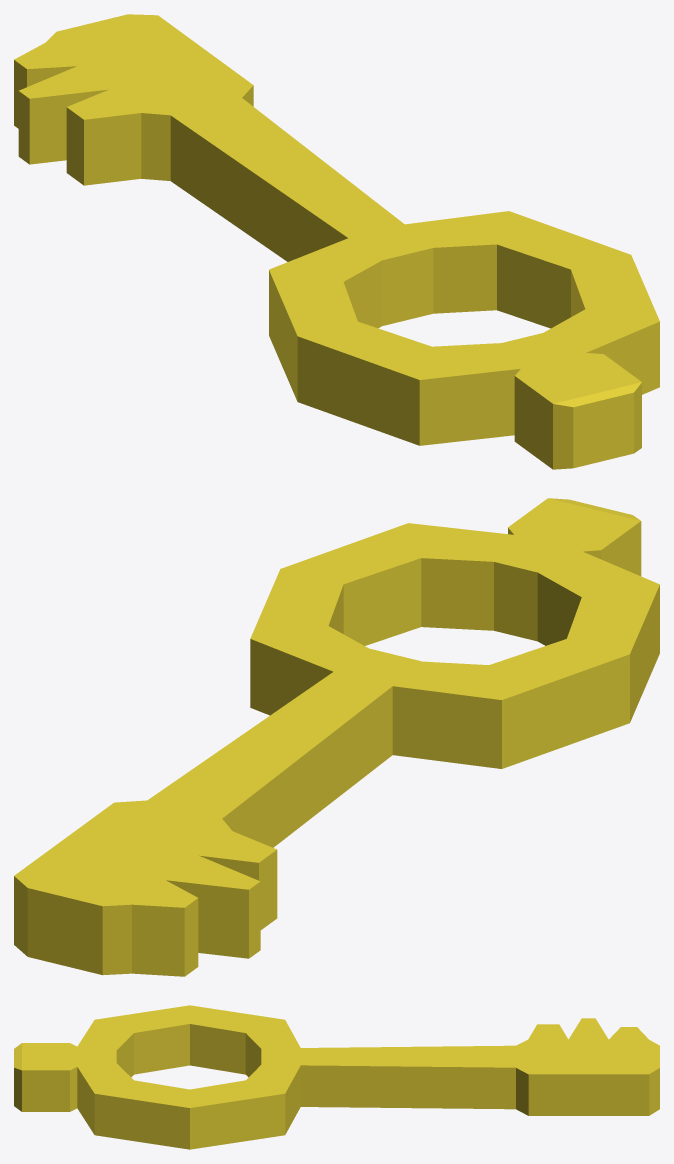
File: okey.FBX
The picture shows the model from 3 angles, top to bottom: view 1: azimuth 30°, elevation 25°; view 2: azimuth 150°, elevation 25°; view 3: azimuth 270°, elevation 25°; orthographic projection. The views are drawn at different scales.
Parts seen in each view (by area): view 1: Key_Golden; view 2: Key_Golden; view 3: Key_Golden.
Part boxes in pixels (<box>): Key_Golden: <box>14,14,659,469</box>; Key_Golden: <box>14,498,659,976</box>; Key_Golden: <box>14,1005,659,1149</box>.
Bounding box in the file's own units: 2.55 × 6.77 × 0.4803.
1 material, 1 textured.
